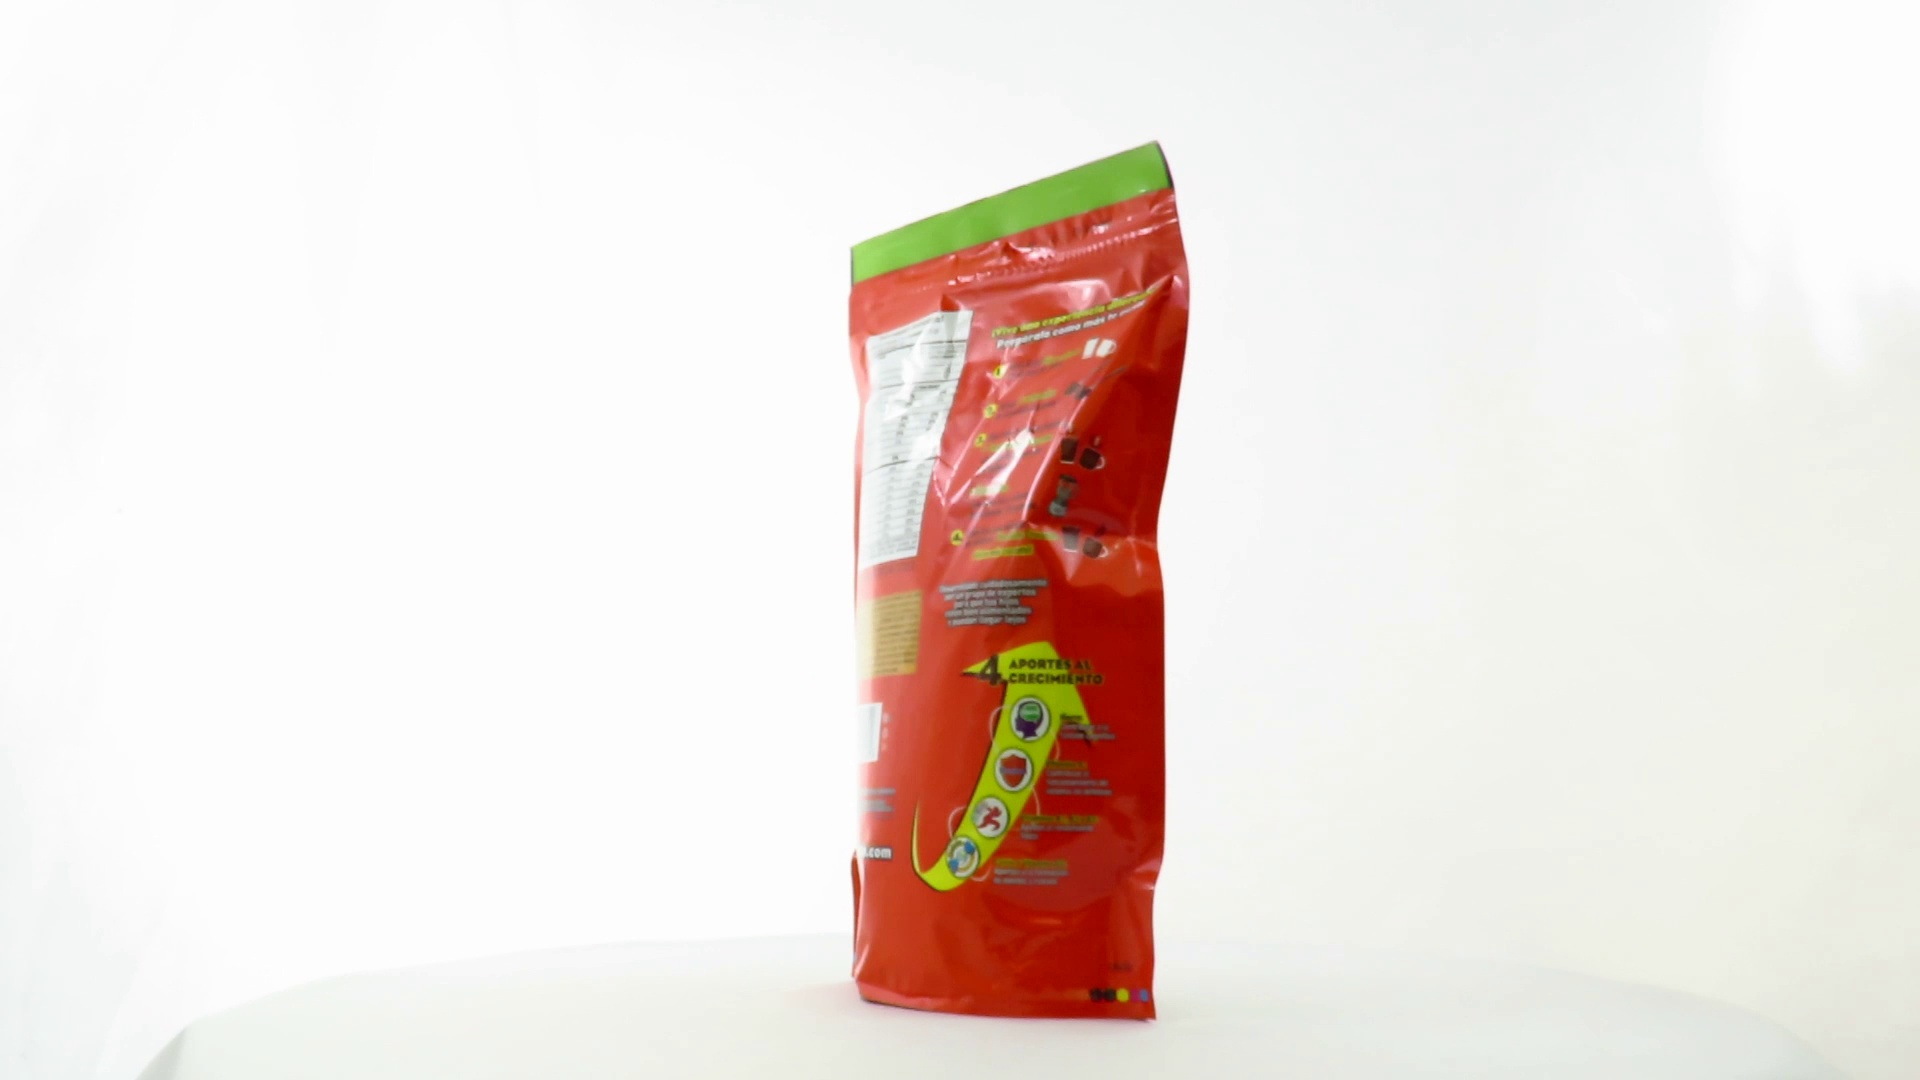COL0170102DYP50000: (843, 135, 1196, 1029)
